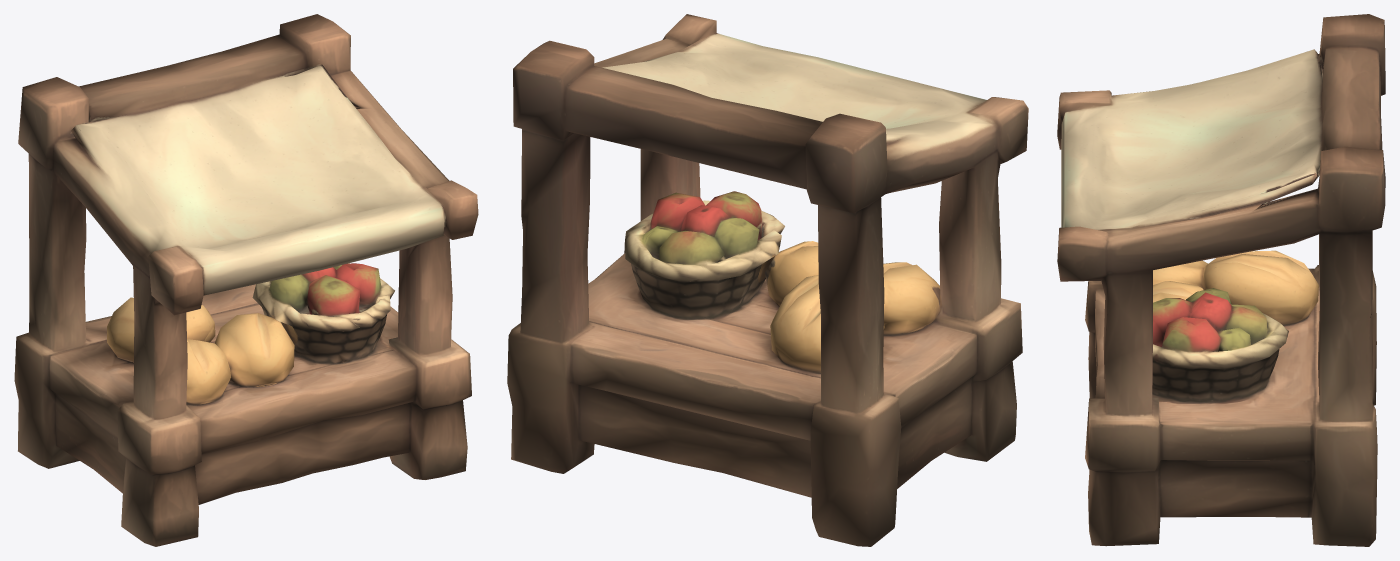
The model's file is stall.glb.
3 renders of one model, left to right at view 1: azimuth 30°, elevation 25°; view 2: azimuth 150°, elevation 25°; view 3: azimuth 270°, elevation 25°, orthographic. The views are drawn at different scales.
Visible parts, largest first — view 1: geometry_0.001; view 2: geometry_0.001; view 3: geometry_0.001.
Part boxes in pixels (x1,y1,x2,y2): geometry_0.001: (14, 14, 478, 546); geometry_0.001: (507, 14, 1028, 546); geometry_0.001: (1057, 14, 1385, 546).
Size of the model in its own units: 1.88 by 1.99 by 1.58.
Materials: 1 (1 with a texture image).
